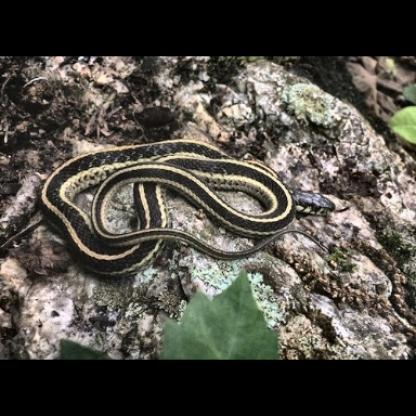Snake: (38, 141, 336, 285)
